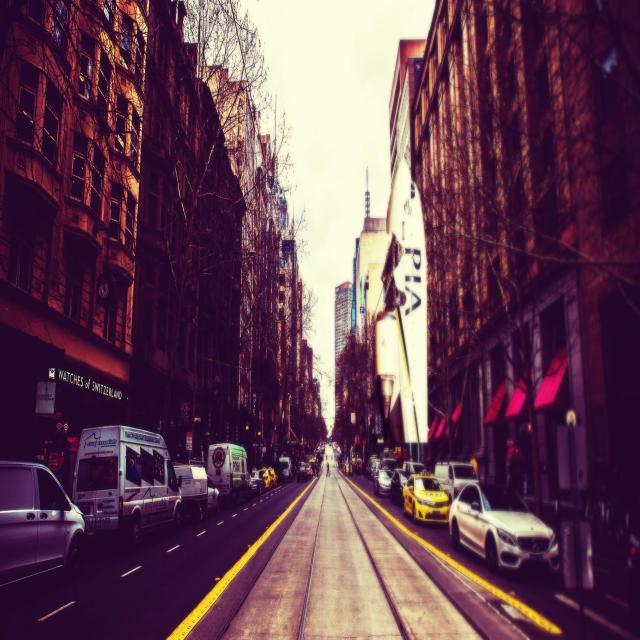airplane: (375, 154, 427, 442)
